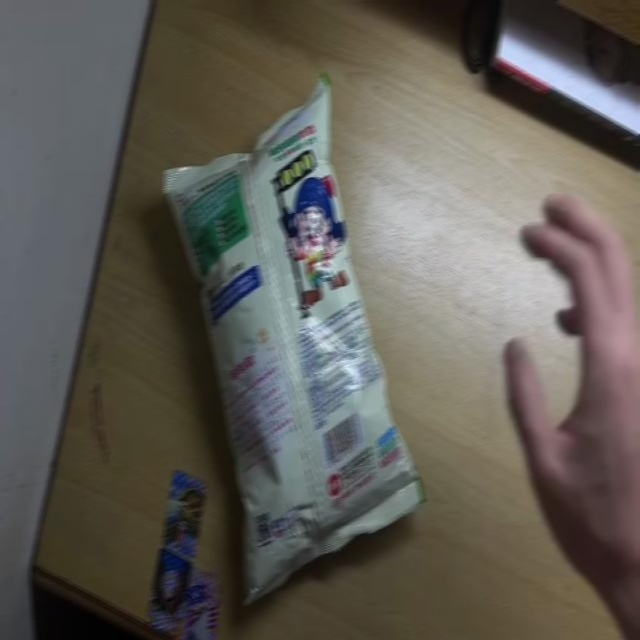Good-Luck: (162, 71, 428, 608)
